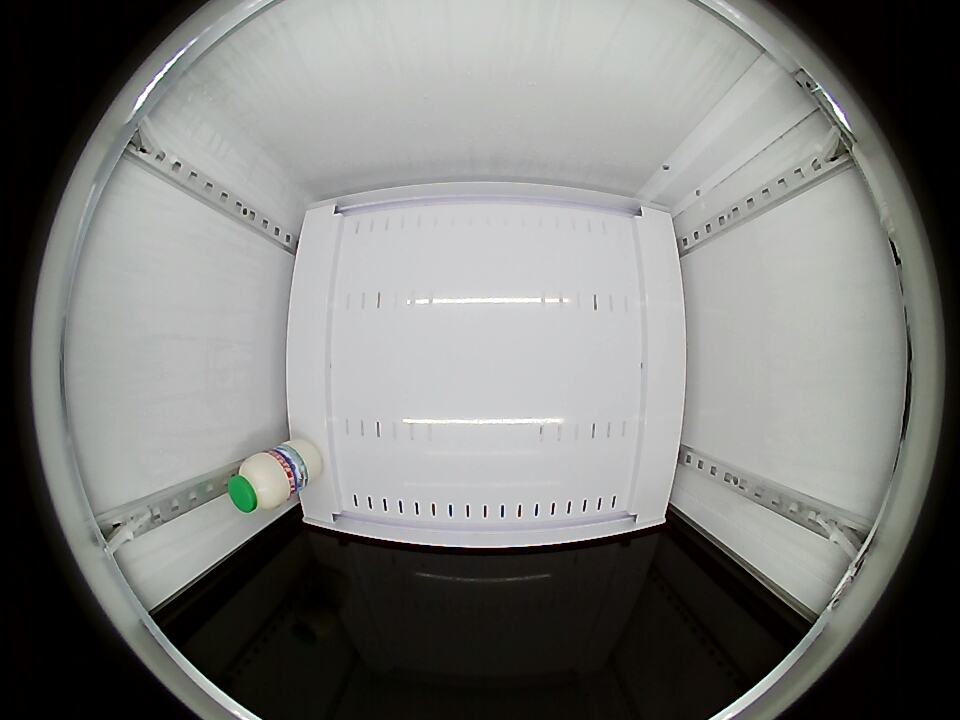liziyuan: (227, 451, 291, 513)
